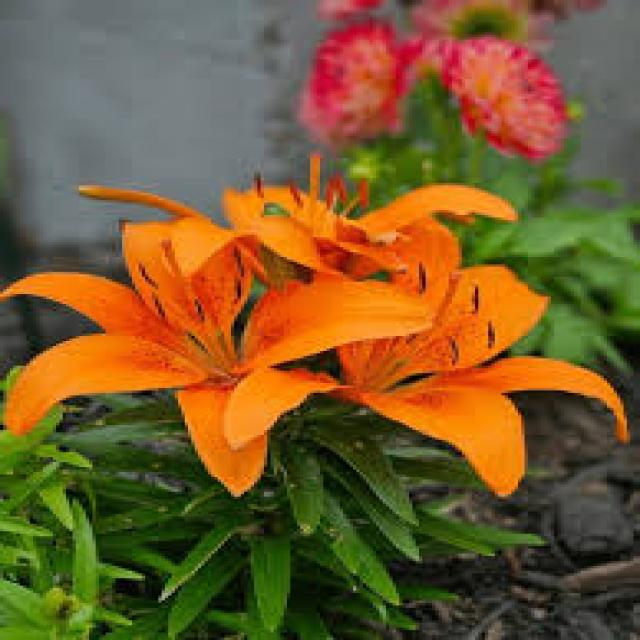lily: (22, 194, 371, 530)
